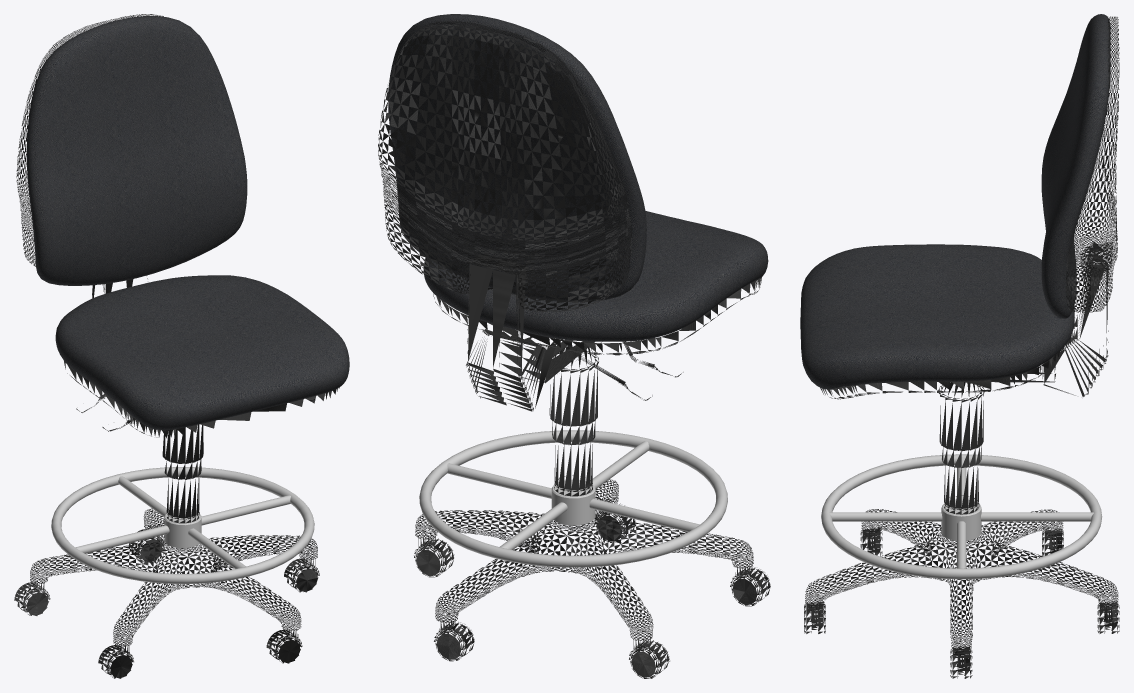
The model's file is pagani_black_metal_plastic.glb.
3 renders of one model, left to right at view 1: azimuth 30°, elevation 25°; view 2: azimuth 150°, elevation 25°; view 3: azimuth 270°, elevation 25°, orthographic. The views are drawn at different scales.
Visible parts, largest first — view 1: PAGANI OFFICE SITZ, PAGANI OFFICE GESTELL, PAGANI OFFICE CHROME; view 2: PAGANI OFFICE GESTELL, PAGANI OFFICE SITZ, PAGANI OFFICE CHROME; view 3: PAGANI OFFICE SITZ, PAGANI OFFICE GESTELL, PAGANI OFFICE CHROME.
Part boxes in pixels (box(x1,y1,x2,y2)): PAGANI OFFICE SITZ: box(27, 16, 349, 430); PAGANI OFFICE GESTELL: box(14, 14, 339, 678); PAGANI OFFICE CHROME: box(51, 467, 314, 584); PAGANI OFFICE GESTELL: box(378, 21, 770, 678); PAGANI OFFICE SITZ: box(388, 14, 768, 341); PAGANI OFFICE CHROME: box(419, 430, 727, 567); PAGANI OFFICE SITZ: box(800, 14, 1110, 389); PAGANI OFFICE GESTELL: box(804, 16, 1119, 678); PAGANI OFFICE CHROME: box(821, 454, 1102, 579).
Bounding box in the file's own units: 0.5847 × 1.2 × 0.5902.
3 materials, 2 textured.
